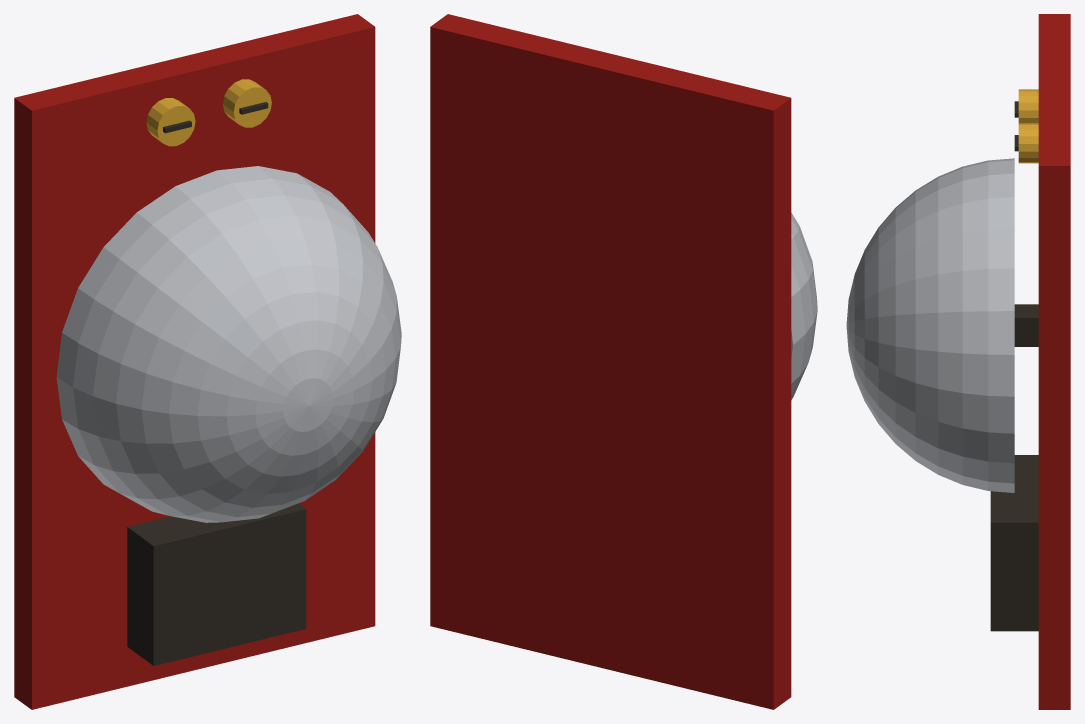
The model's file is ElectricBell 1.obj.
3 views of the same model, side by side, from view 1: azimuth 30°, elevation 25°; view 2: azimuth 150°, elevation 25°; view 3: azimuth 270°, elevation 25° (orthographic). The views are drawn at different scales.
Parts seen in each view (by area): view 1: WallPlate, Dome, CoilBox, BellTerminal_1, BellTerminal_2; view 2: WallPlate, Dome; view 3: Dome, WallPlate, CoilBox, Post, BellTerminal_1, BellTerminal_2.
Boxes of the visible parts, x1,y1,x2,y2 form: WallPlate: [14, 14, 375, 709]; Dome: [56, 166, 401, 522]; CoilBox: [127, 503, 306, 665]; BellTerminal_1: [222, 79, 271, 127]; BellTerminal_2: [146, 98, 195, 146]; WallPlate: [430, 14, 791, 709]; Dome: [791, 213, 817, 399]; Dome: [846, 158, 1014, 492]; WallPlate: [1038, 14, 1070, 709]; CoilBox: [990, 455, 1038, 631]; Post: [1014, 304, 1038, 346]; BellTerminal_1: [1018, 123, 1038, 163]; BellTerminal_2: [1018, 89, 1038, 123].
Bounding box in the file's own units: 0.09 × 0.15 × 0.056.
